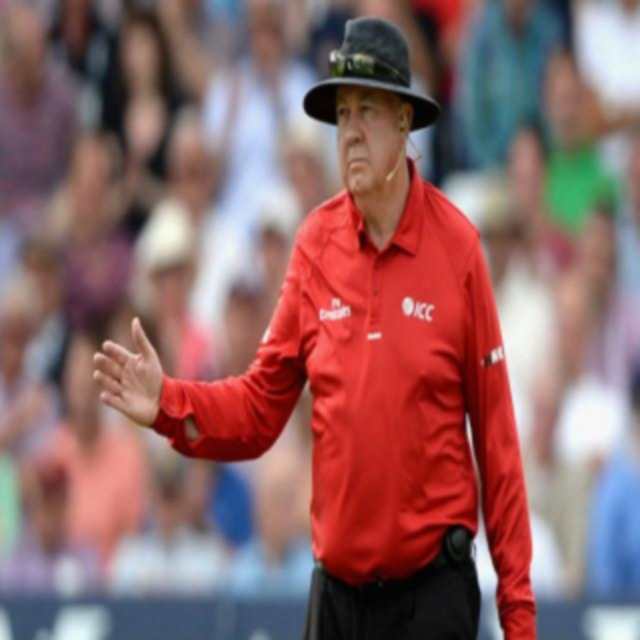No_Ball: (80, 6, 542, 640)
